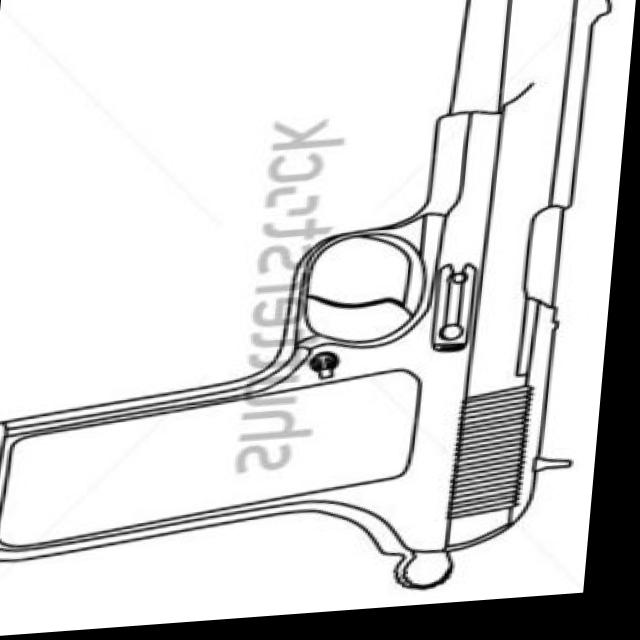handgun: (0, 0, 636, 630)
